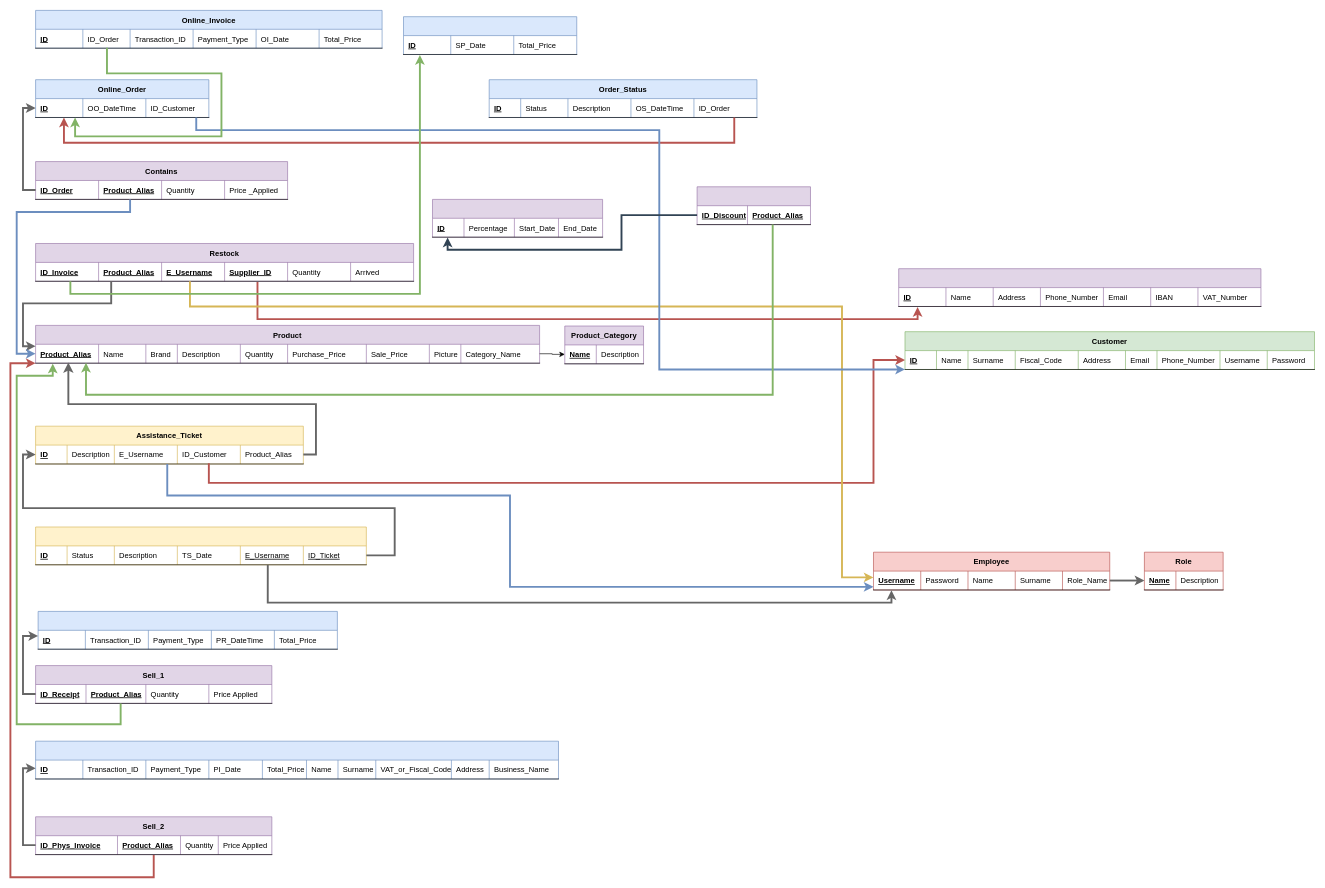
This 1325x888 diagram has some shape labels left out. Each missing label, with the box of its shape:
Discount: (432, 199, 603, 237)
Owns: (696, 186, 810, 225)
Physical_Invoice: (35, 741, 558, 779)
Physical_Receipt: (37, 611, 337, 649)
Supplier: (898, 268, 1261, 306)
Supplier_Invoice: (403, 16, 577, 54)
Ticket_Status: (35, 526, 366, 565)
